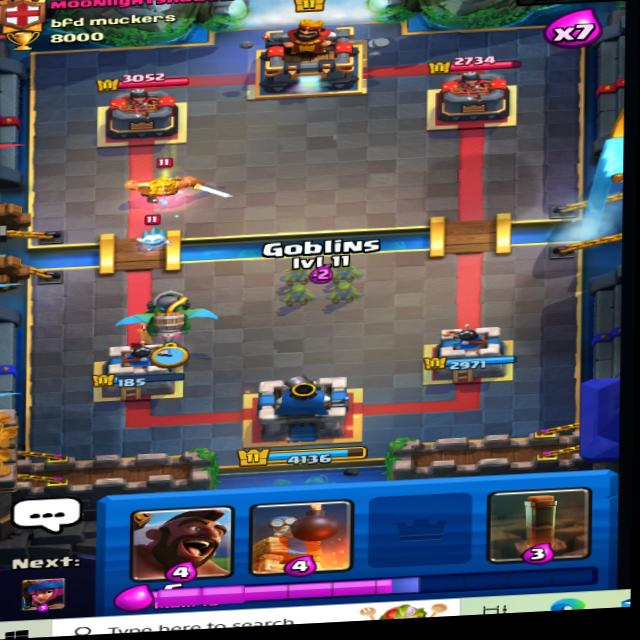golden-knight: (124, 152, 225, 215)
golden-knight-ability: (125, 157, 224, 218)
ice-spirit: (135, 223, 177, 253)
